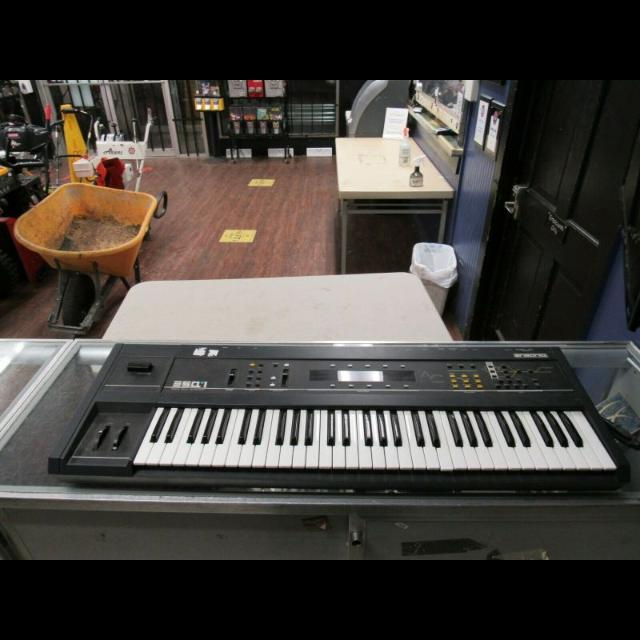Electronic-Keyboard: (61, 332, 613, 483)
